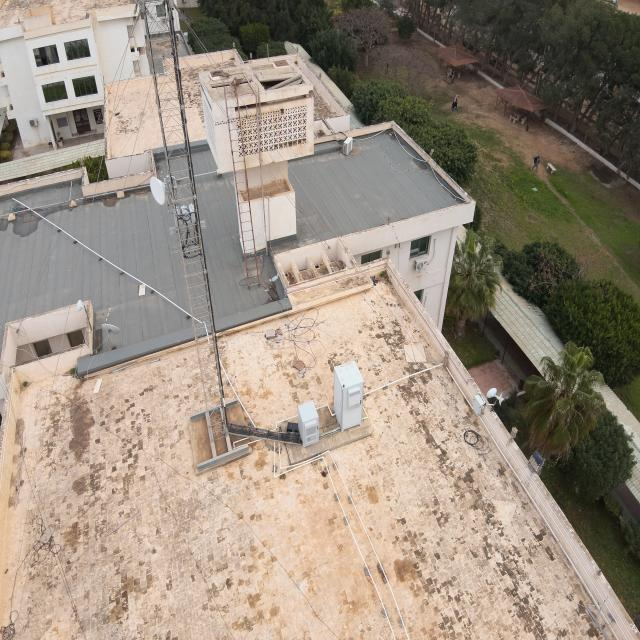microware-dish: (147, 168, 178, 206)
power-box: (172, 200, 200, 230)
